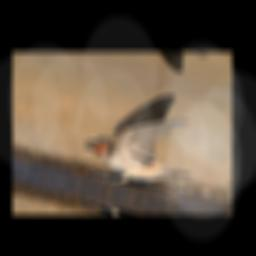Swallow: (75, 77, 213, 199)
